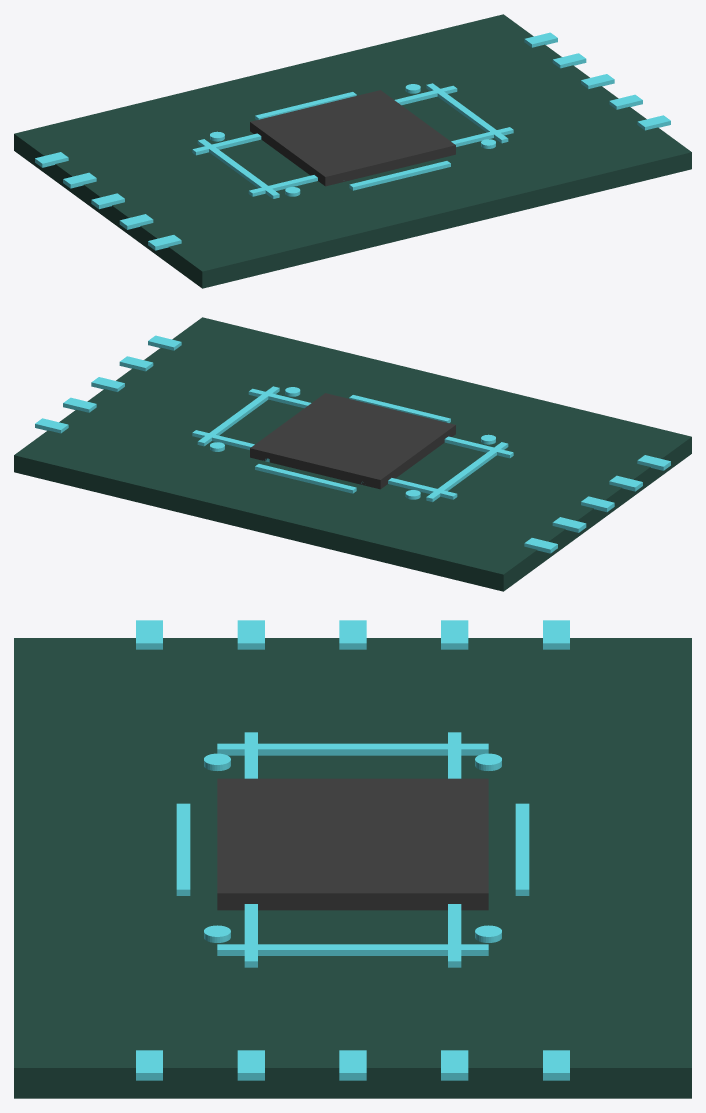
The model's file is tech-chip.glb.
3 views of the same model, one above another, from view 1: azimuth 30°, elevation 25°; view 2: azimuth 150°, elevation 25°; view 3: azimuth 270°, elevation 25° (orthographic). The views are drawn at different scales.
Parts seen in each view (by area): view 1: Circuit_Board, Center_Chip, Trace_V_-0.7_0.0, Trace_H_0.0_-0.5, Trace_V_0.7_0.0, Trace_H_0.0_0.5, Trace_H_-0.5_0.3, Trace_H_-0.5_-0.3, Trace_H_0.5_0.3, Trace_H_0.5_-0.3; view 2: Circuit_Board, Center_Chip, Trace_V_-0.7_0.0, Trace_H_0.0_0.5, Trace_V_0.7_0.0, Trace_H_0.0_-0.5, Trace_H_-0.5_-0.3, Trace_H_-0.5_0.3, Trace_H_0.5_-0.3, Trace_H_0.5_0.3; view 3: Circuit_Board, Center_Chip, Trace_V_-0.7_0.0, Trace_V_0.7_0.0, Trace_H_0.0_0.5, Trace_H_0.0_-0.5, Pin_R_1, Pin_R_2, Pin_R_3, Pin_L_1, Pin_L_2, Pin_L_3 (+6 smaller).
Part boxes in pixels (left/top/right/bottom): Circuit_Board: left=14, top=14, right=691, bottom=288; Center_Chip: left=250, top=90, right=455, bottom=186; Trace_V_-0.7_0.0: left=197, top=139, right=279, bottom=198; Trace_H_0.0_-0.5: left=349, top=161, right=450, bottom=190; Trace_V_0.7_0.0: left=426, top=83, right=508, bottom=143; Trace_H_0.0_0.5: left=255, top=92, right=356, bottom=119; Trace_H_-0.5_0.3: left=192, top=133, right=261, bottom=155; Trace_H_-0.5_-0.3: left=248, top=175, right=317, bottom=196; Trace_H_0.5_0.3: left=394, top=85, right=457, bottom=105; Trace_H_0.5_-0.3: left=451, top=127, right=513, bottom=146; Circuit_Board: left=14, top=317, right=691, bottom=591; Center_Chip: left=250, top=393, right=455, bottom=489; Trace_V_-0.7_0.0: left=426, top=442, right=508, bottom=501; Trace_H_0.0_0.5: left=255, top=464, right=356, bottom=493; Trace_V_0.7_0.0: left=197, top=386, right=279, bottom=446; Trace_H_0.0_-0.5: left=349, top=395, right=450, bottom=422; Trace_H_-0.5_-0.3: left=444, top=436, right=513, bottom=458; Trace_H_-0.5_0.3: left=388, top=478, right=457, bottom=499; Trace_H_0.5_-0.3: left=248, top=388, right=311, bottom=408; Trace_H_0.5_0.3: left=192, top=430, right=254, bottom=449; Circuit_Board: left=14, top=638, right=691, bottom=1098; Center_Chip: left=217, top=778, right=488, bottom=910; Trace_V_-0.7_0.0: left=217, top=743, right=488, bottom=755; Trace_V_0.7_0.0: left=217, top=944, right=488, bottom=955; Trace_H_0.0_0.5: left=515, top=803, right=529, bottom=895; Trace_H_0.0_-0.5: left=176, top=803, right=190, bottom=895; Pin_R_1: left=237, top=1050, right=264, bottom=1080; Pin_R_2: left=339, top=1050, right=366, bottom=1080; Pin_R_3: left=441, top=1050, right=468, bottom=1080; Pin_L_1: left=237, top=620, right=264, bottom=649; Pin_L_2: left=339, top=620, right=366, bottom=649; Pin_L_3: left=441, top=620, right=468, bottom=649.
Bounding box in the file's own units: 3.16 × 0.155 × 2.
